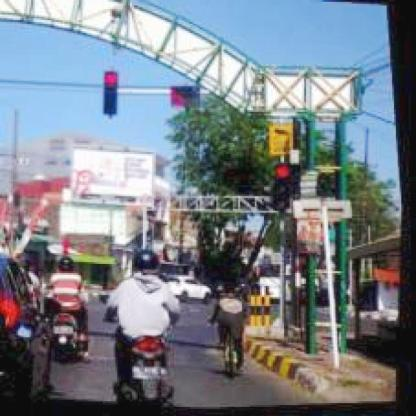Traffic Light -Red-: (275, 164, 297, 214), (106, 72, 126, 118)
